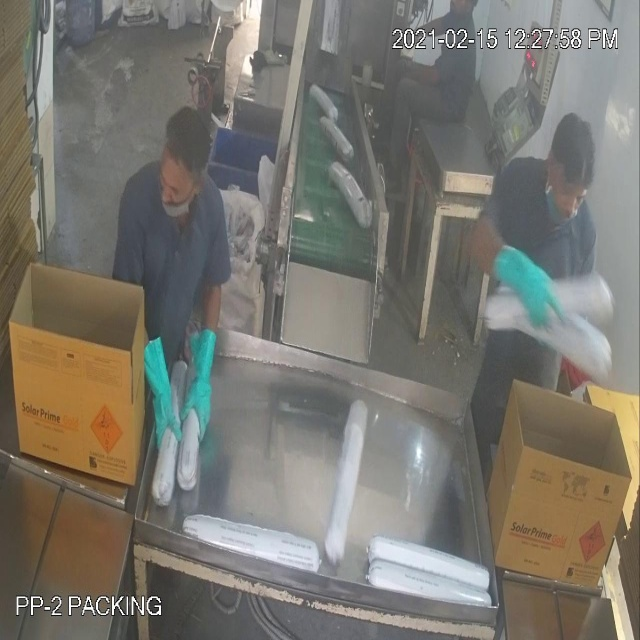Guantes: (483, 213, 570, 348), (136, 317, 184, 458), (177, 309, 224, 453)
